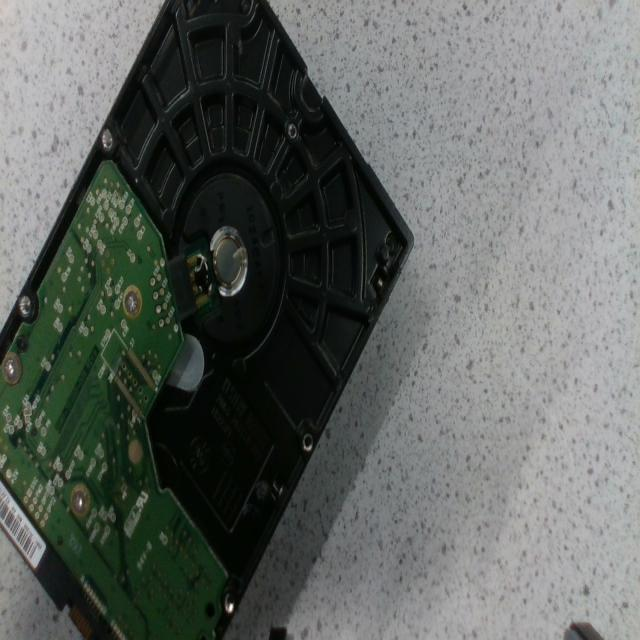case: (0, 0, 414, 639)
pcb: (0, 158, 229, 639)
screw: (70, 484, 90, 517), (3, 351, 22, 385), (124, 285, 142, 317)
